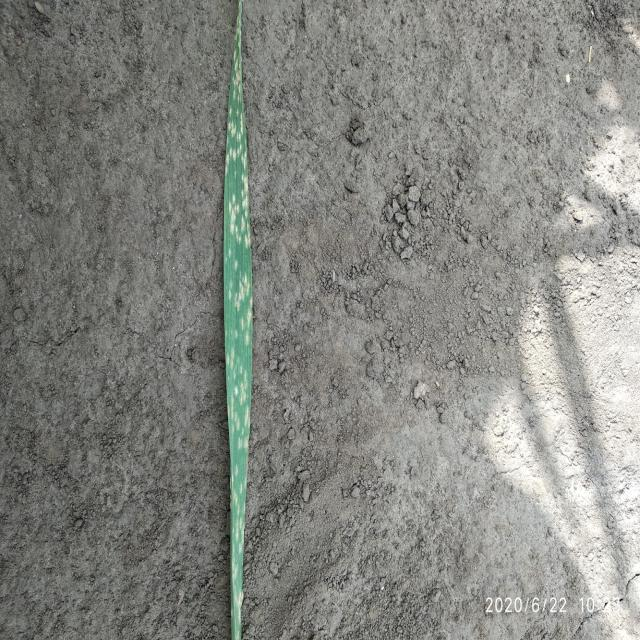wheat-powdery-mildew: (223, 0, 256, 640)
